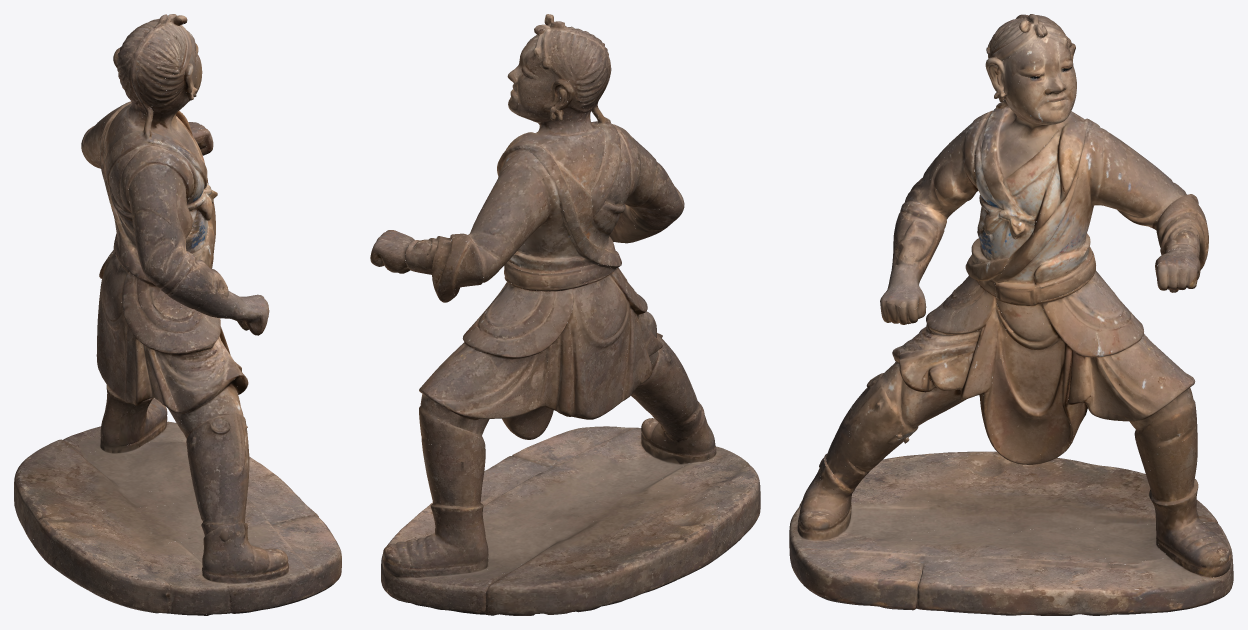
The model's file is f4-elephant-groom.glb.
The picture shows the model from 3 angles, left to right: view 1: azimuth 30°, elevation 25°; view 2: azimuth 150°, elevation 25°; view 3: azimuth 270°, elevation 25°; orthographic projection. The views are drawn at different scales.
Parts seen in each view (by area): view 1: tripo_node_b2f8aa61-d2ce-45e2-9449-f4e8bc757585; view 2: tripo_node_b2f8aa61-d2ce-45e2-9449-f4e8bc757585; view 3: tripo_node_b2f8aa61-d2ce-45e2-9449-f4e8bc757585.
Boxes of the visible parts, box(x1,y1,x2,y2) form: tripo_node_b2f8aa61-d2ce-45e2-9449-f4e8bc757585: box(14, 14, 341, 615); tripo_node_b2f8aa61-d2ce-45e2-9449-f4e8bc757585: box(370, 14, 760, 615); tripo_node_b2f8aa61-d2ce-45e2-9449-f4e8bc757585: box(789, 14, 1233, 615).
Size of the model in its own units: 0.5019 by 1 by 0.7395.
1 material, 1 textured.
